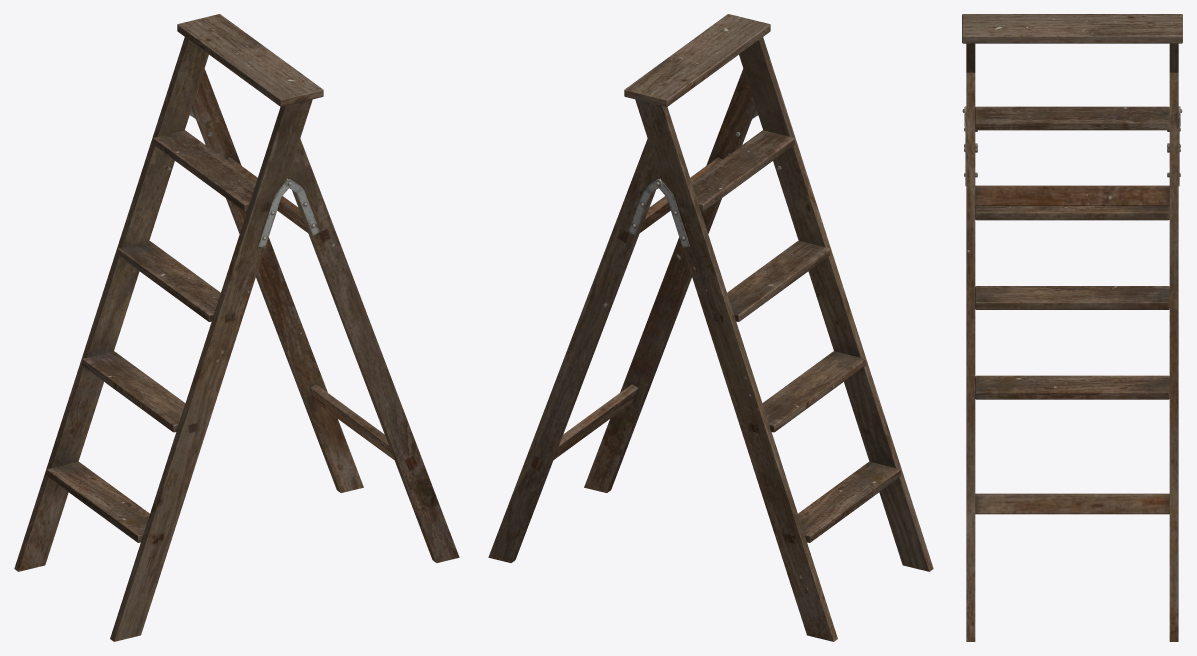
The model's file is wooden_ladder_512.gltf.
The picture shows the model from 3 angles, left to right: view 1: azimuth 30°, elevation 25°; view 2: azimuth 150°, elevation 25°; view 3: azimuth 270°, elevation 25°; orthographic projection. The views are drawn at different scales.
Visible parts, largest first — view 1: wooden_ladder_steps, wooden_ladder_supports; view 2: wooden_ladder_steps, wooden_ladder_supports; view 3: wooden_ladder_steps, wooden_ladder_supports.
Part boxes in pixels (<box>): wooden_ladder_steps: <box>14,14,323,641</box>; wooden_ladder_supports: <box>190,68,459,562</box>; wooden_ladder_steps: <box>624,14,933,641</box>; wooden_ladder_supports: <box>488,68,757,562</box>; wooden_ladder_steps: <box>962,14,1182,399</box>; wooden_ladder_supports: <box>962,72,1182,641</box>.
Bounding box in the file's own units: 0.9592 × 1.33 × 0.5.
Materials: 1 (1 with a texture image).
